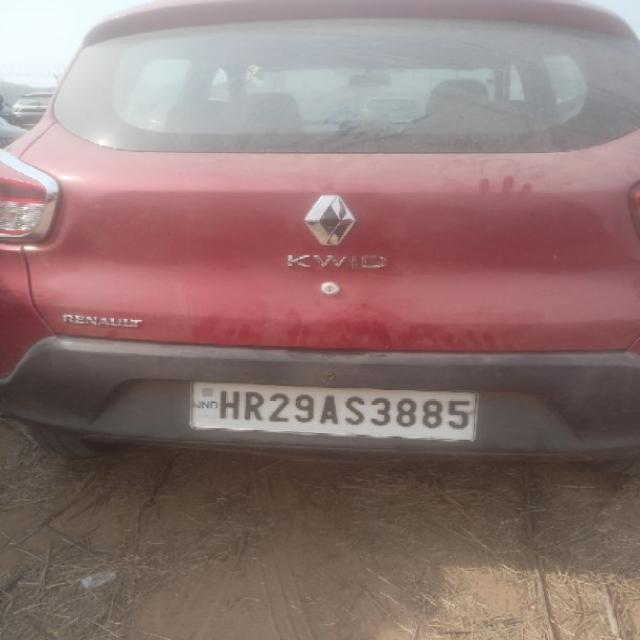license_plate: (187, 379, 479, 442)
